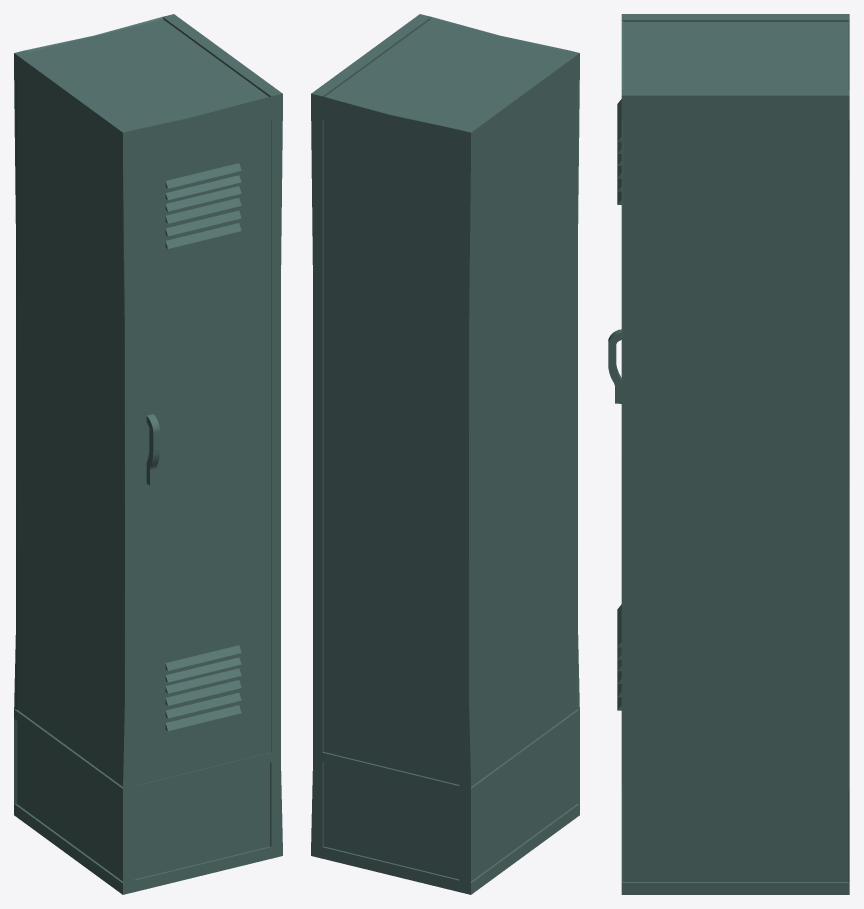
File: PD_SingleLocker_05_DF.fbx
3 views of the same model, side by side, from view 1: azimuth 30°, elevation 25°; view 2: azimuth 150°, elevation 25°; view 3: azimuth 270°, elevation 25° (orthographic). The views are drawn at different scales.
Visible parts, largest first — view 1: LockerBody, Door; view 2: LockerBody; view 3: LockerBody, Door.
Boxes of the visible parts, left/top/right/bottom form: LockerBody: left=14, top=14, right=282, bottom=894; Door: left=134, top=119, right=270, bottom=785; LockerBody: left=311, top=14, right=579, bottom=894; LockerBody: left=621, top=14, right=849, bottom=894; Door: left=608, top=99, right=621, bottom=710.
Size of the model in its own units: 0.4048 by 1.84 by 0.505.
